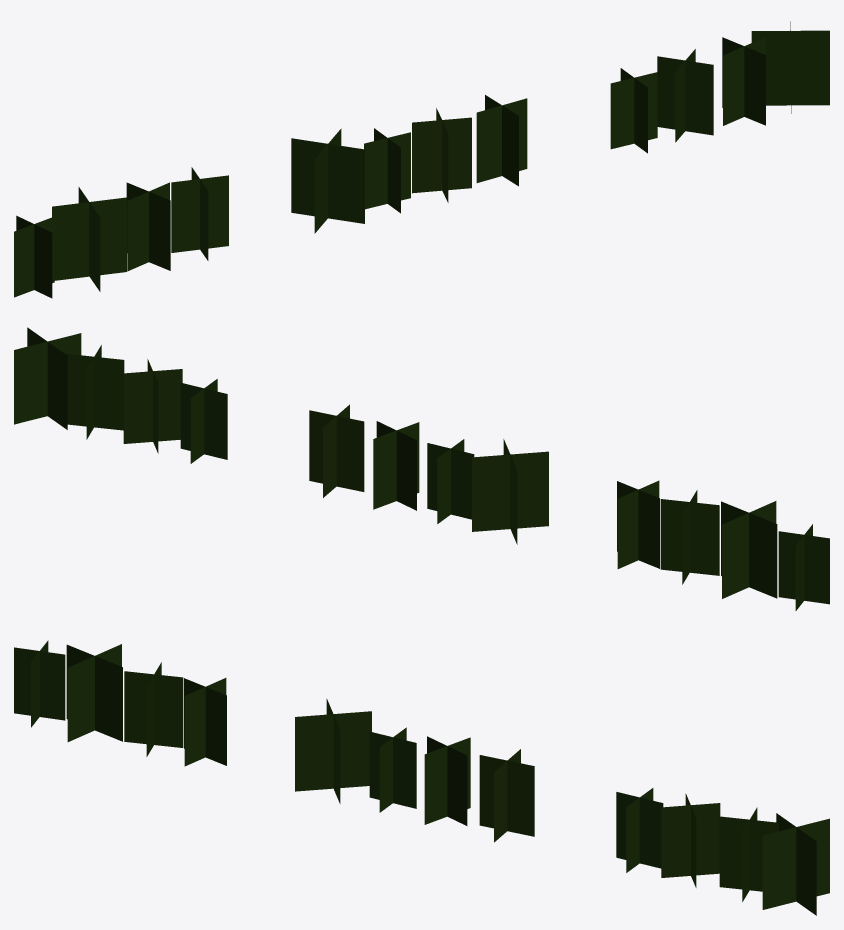
Rendered from RT PlantMOB for GrandS V01 DS.FBX.
3 views of the same model, one above another, from view 1: azimuth 30°, elevation 25°; view 2: azimuth 150°, elevation 25°; view 3: azimuth 330°, elevation 25° (orthographic).
Parts seen in each view (by area): view 1: RT PlantMOB for BGrand V01 DS; view 2: RT PlantMOB for BGrand V01 DS; view 3: RT PlantMOB for BGrand V01 DS.
Boxes of the visible parts, x1,y1,x2,y2 form: RT PlantMOB for BGrand V01 DS: [14, 21, 829, 298]; RT PlantMOB for BGrand V01 DS: [14, 327, 829, 610]; RT PlantMOB for BGrand V01 DS: [14, 640, 829, 915].
Bounding box in the file's own units: 33.96 × 2.99 × 2.76.
